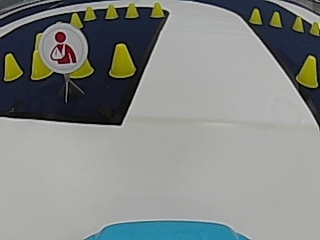cone: (109, 43, 135, 79), (30, 47, 52, 79), (296, 56, 317, 87), (69, 55, 94, 78), (3, 53, 23, 80), (149, 2, 164, 18), (124, 3, 139, 18), (104, 4, 118, 19), (249, 8, 262, 24), (70, 13, 83, 28), (270, 11, 282, 27), (292, 16, 304, 32), (84, 6, 96, 20), (309, 20, 319, 35)
patient: (47, 31, 81, 70)
